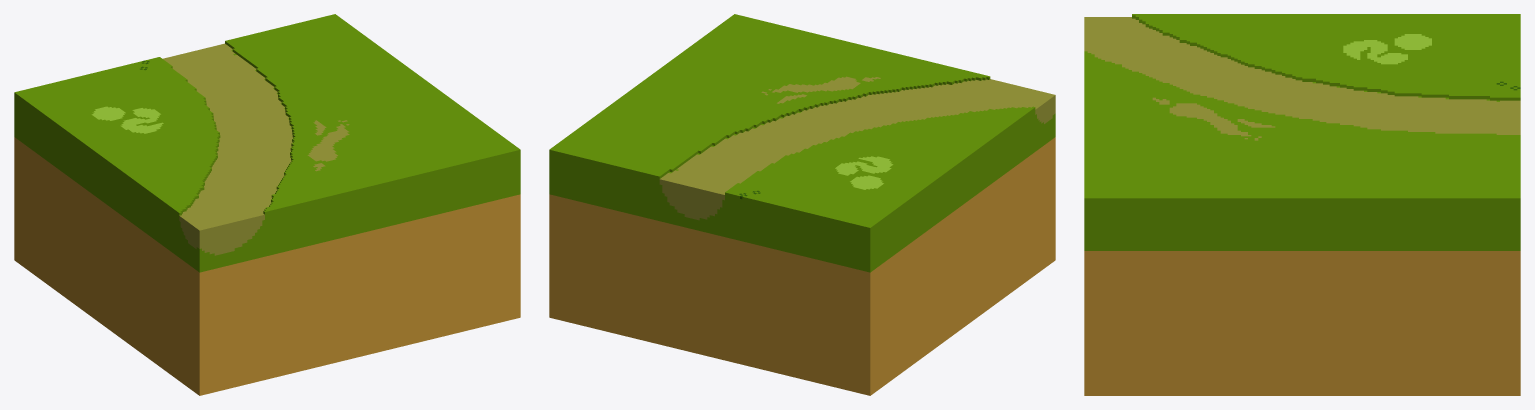
The picture shows the model from 3 angles, left to right: view 1: azimuth 30°, elevation 25°; view 2: azimuth 150°, elevation 25°; view 3: azimuth 270°, elevation 25°; orthographic projection. The views are drawn at different scales.
Parts seen in each view (by area): view 1: 10G; view 2: 10G; view 3: 10G.
Boxes of the visible parts, <box> form: 10G: <box>14,14,520,395</box>; 10G: <box>549,14,1055,395</box>; 10G: <box>1084,14,1520,395</box>.
Size of the model in its own units: 12.8 by 6.4 by 12.8.
Materials: 1 (1 with a texture image).
